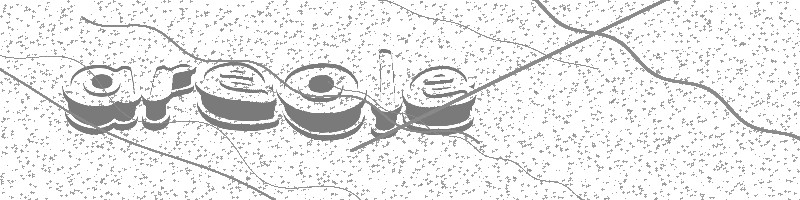a: (59, 61, 141, 134)
e: (195, 60, 281, 131), (401, 63, 477, 135)
i: (367, 45, 404, 140)
o: (277, 60, 368, 141)
r: (141, 60, 196, 133)
